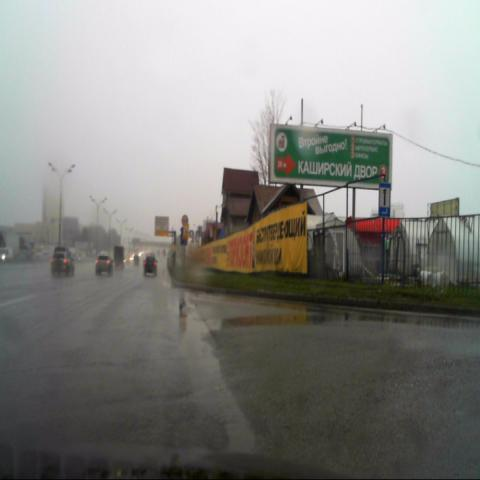7_4: (379, 183, 391, 218)
